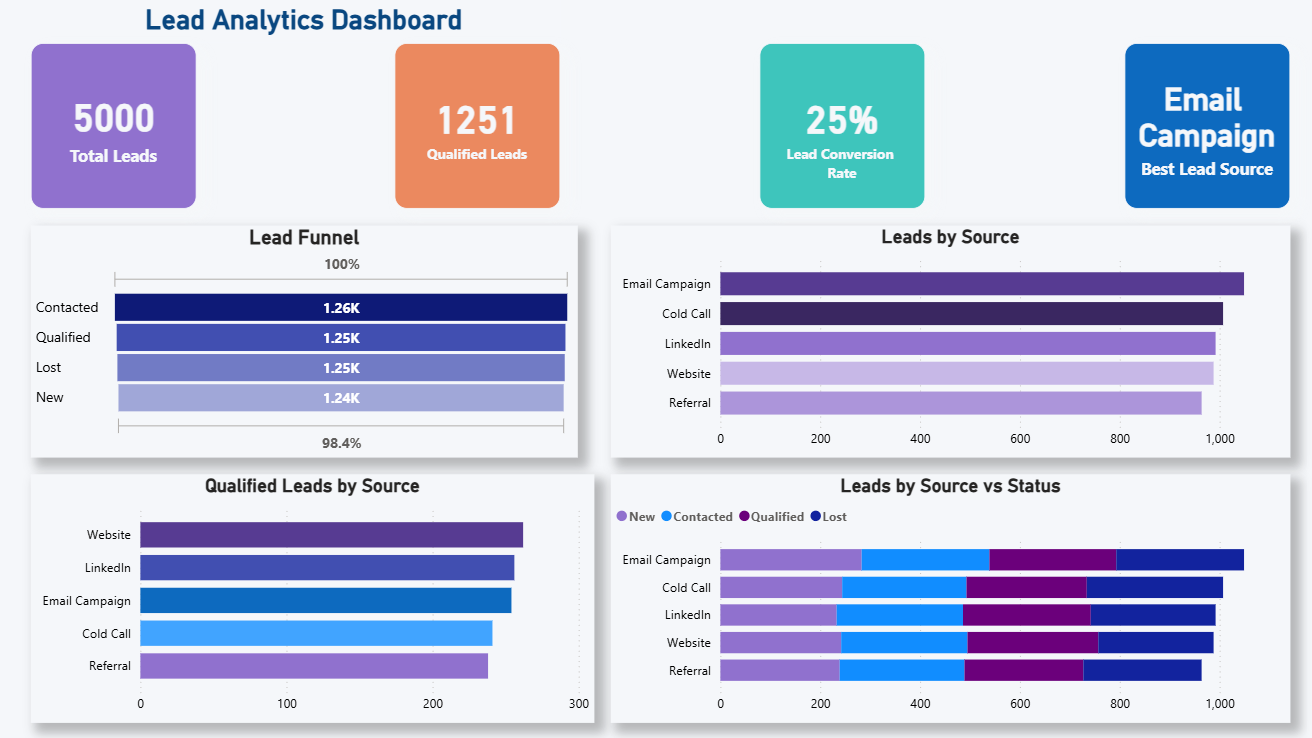

This screenshot's page, from the dashboard's own definition file:
{"tool":"powerbi","page":{"name":"Lead Analytics Dashboard","canvas":[1280,720],"ordinal":2},"visuals":[{"type":"card","fields":{"Values":["KPI_Table.III"]},"box":[48,0,496,48],"z":0},{"type":"card","fields":{"Values":["KPI_Table.Total Leads"]},"box":[32,48,160,160],"z":1000},{"type":"card","fields":{"Values":["KPI_Table.Qualified Leads"]},"box":[384,48,160,160],"z":2000},{"type":"card","fields":{"Values":["KPI_Table.Lead Conversion Rate"]},"box":[736,48,160,160],"z":3000},{"type":"card","fields":{"Values":["KPI_Table.Best Lead Source"]},"box":[1088,48,160,160],"z":4000},{"type":"funnel","title":"Lead Funnel","fields":{"Category":["leads.status"],"Y":["CountNonNull(leads.lead_id)"]},"box":[32,224,528,224],"z":5000},{"type":"clusteredBarChart","title":"Leads by Source","fields":{"Category":["leads.lead_source"],"Y":["CountNonNull(leads.lead_id)"]},"box":[592,224,656,224],"z":6000},{"type":"clusteredBarChart","title":"Qualified Leads by Source","fields":{"Category":["leads.lead_source"],"Y":["CountNonNull(leads.lead_id)"]},"box":[32,464,544,240],"z":7000},{"type":"barChart","title":"Leads by Source vs Status","fields":{"Category":["leads.lead_source"],"Y":["CountNonNull(leads.lead_id)"],"Series":["leads.status"]},"box":[592,464,656,240],"z":8000}]}

Visuals, with their boxes in screenshot pixels (x1, y1, x2, y2), scaled from the page's 1280x720 canvas onto the 1312x738 screenshot:
card - KPI_Table.III: BBox(49, 0, 558, 49)
card - KPI_Table.Total Leads: BBox(33, 49, 197, 213)
card - KPI_Table.Qualified Leads: BBox(394, 49, 558, 213)
card - KPI_Table.Lead Conversion Rate: BBox(754, 49, 918, 213)
card - KPI_Table.Best Lead Source: BBox(1115, 49, 1279, 213)
"Lead Funnel" funnel: BBox(33, 230, 574, 459)
"Leads by Source" clusteredBarChart: BBox(607, 230, 1279, 459)
"Qualified Leads by Source" clusteredBarChart: BBox(33, 476, 590, 722)
"Leads by Source vs Status" barChart: BBox(607, 476, 1279, 722)
